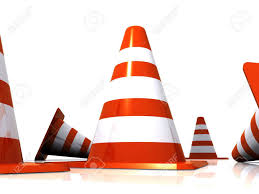cones: (81, 26, 208, 172), (1, 33, 72, 173), (31, 109, 94, 161), (230, 60, 259, 170), (188, 115, 227, 161)
